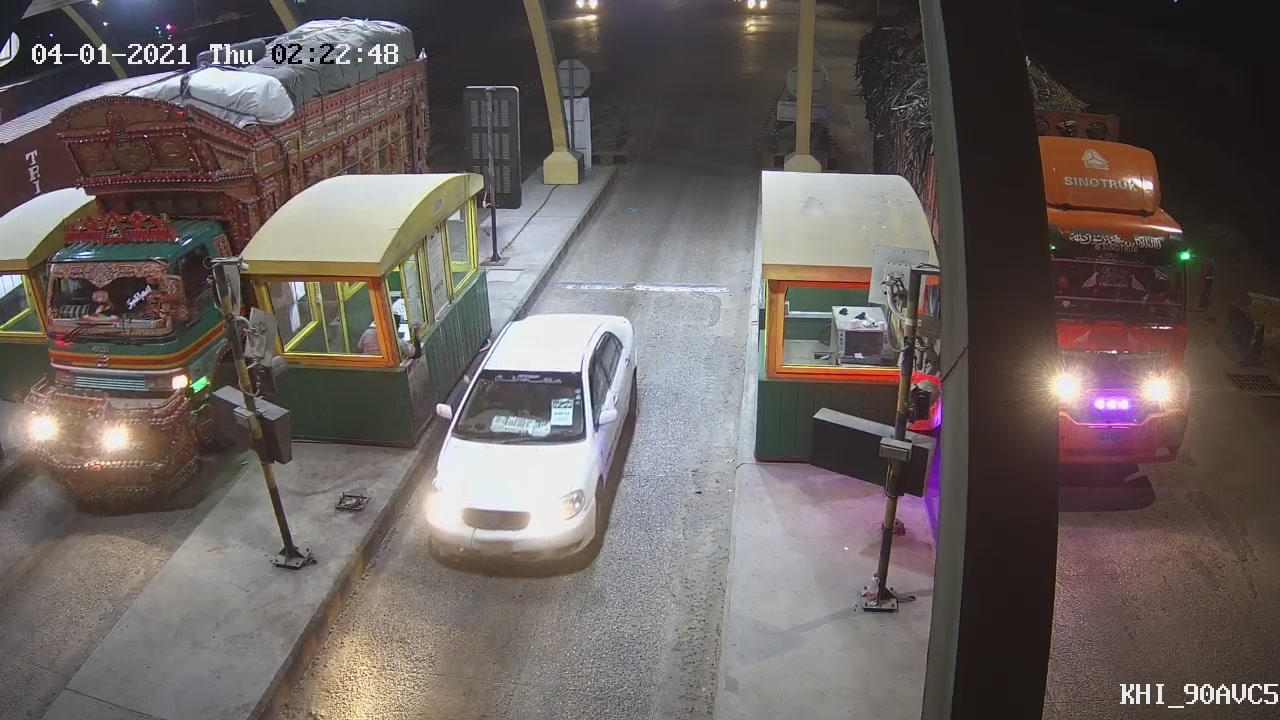F1: (420, 310, 656, 582)
